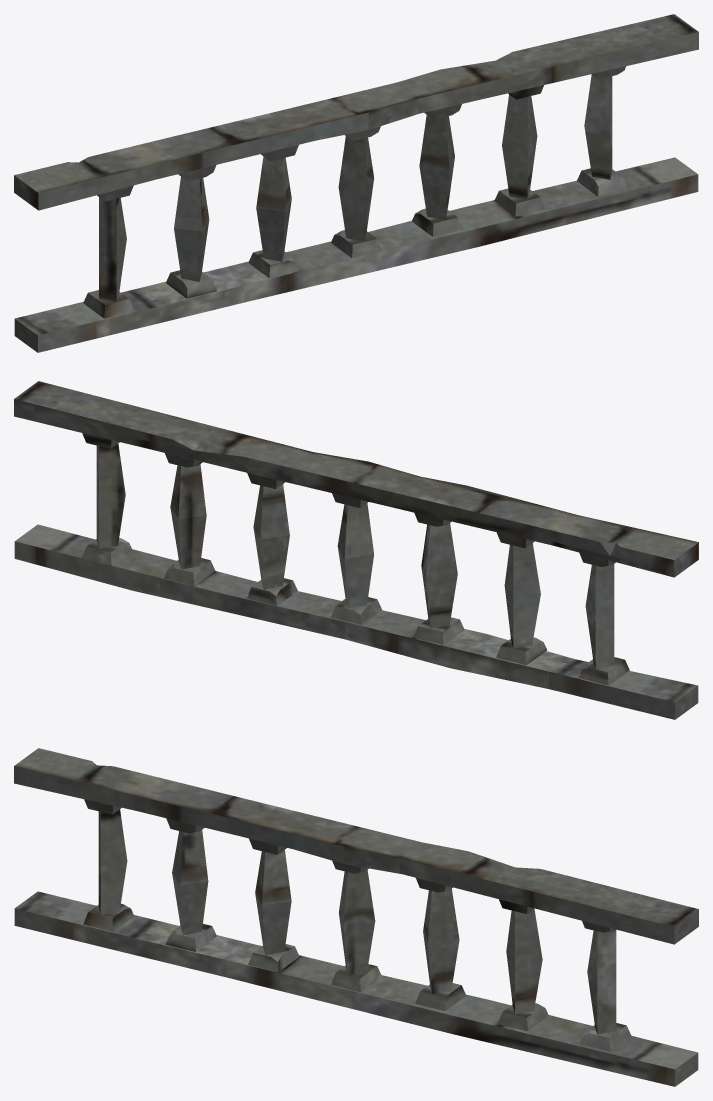
File: Railing 1.fbx
The picture shows the model from 3 angles, top to bottom: view 1: azimuth 30°, elevation 25°; view 2: azimuth 150°, elevation 25°; view 3: azimuth 330°, elevation 25°; orthographic projection.
Visible parts, largest first — view 1: Railing 1; view 2: Railing 1; view 3: Railing 1.
Boxes of the visible parts, left/top/right/bottom form: Railing 1: left=14, top=14, right=698, bottom=352; Railing 1: left=14, top=381, right=698, bottom=719; Railing 1: left=14, top=748, right=698, bottom=1086.
Bounding box in the file's own units: 1076 × 250 × 78.79.
Materials: 1 (1 with a texture image).
